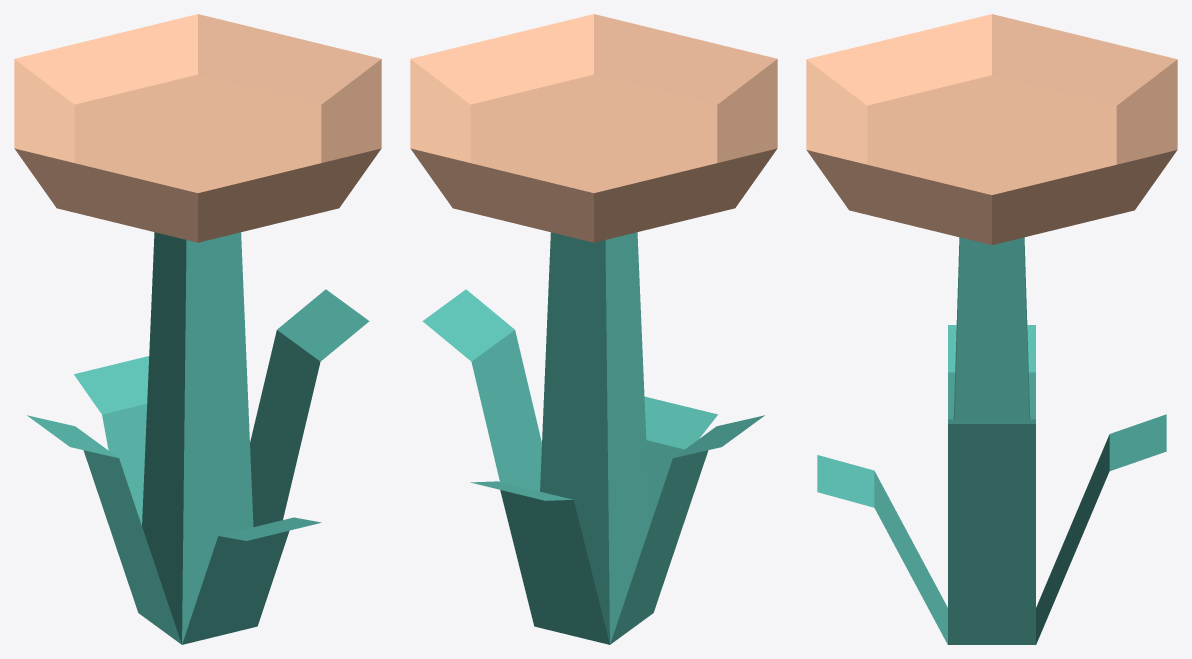
Rendered from flower_beige3.fbx.
The picture shows the model from 3 angles, left to right: view 1: azimuth 30°, elevation 25°; view 2: azimuth 150°, elevation 25°; view 3: azimuth 270°, elevation 25°; orthographic projection.
Visible parts, largest first — view 1: flower_beige3; view 2: flower_beige3; view 3: flower_beige3.
Part boxes in pixels (x1=…): flower_beige3: x1=14, y1=14, x2=381, y2=644; flower_beige3: x1=410, y1=14, x2=777, y2=644; flower_beige3: x1=806, y1=14, x2=1177, y2=644.
Size of the model in its own units: 1.51 by 2.03 by 1.31.
